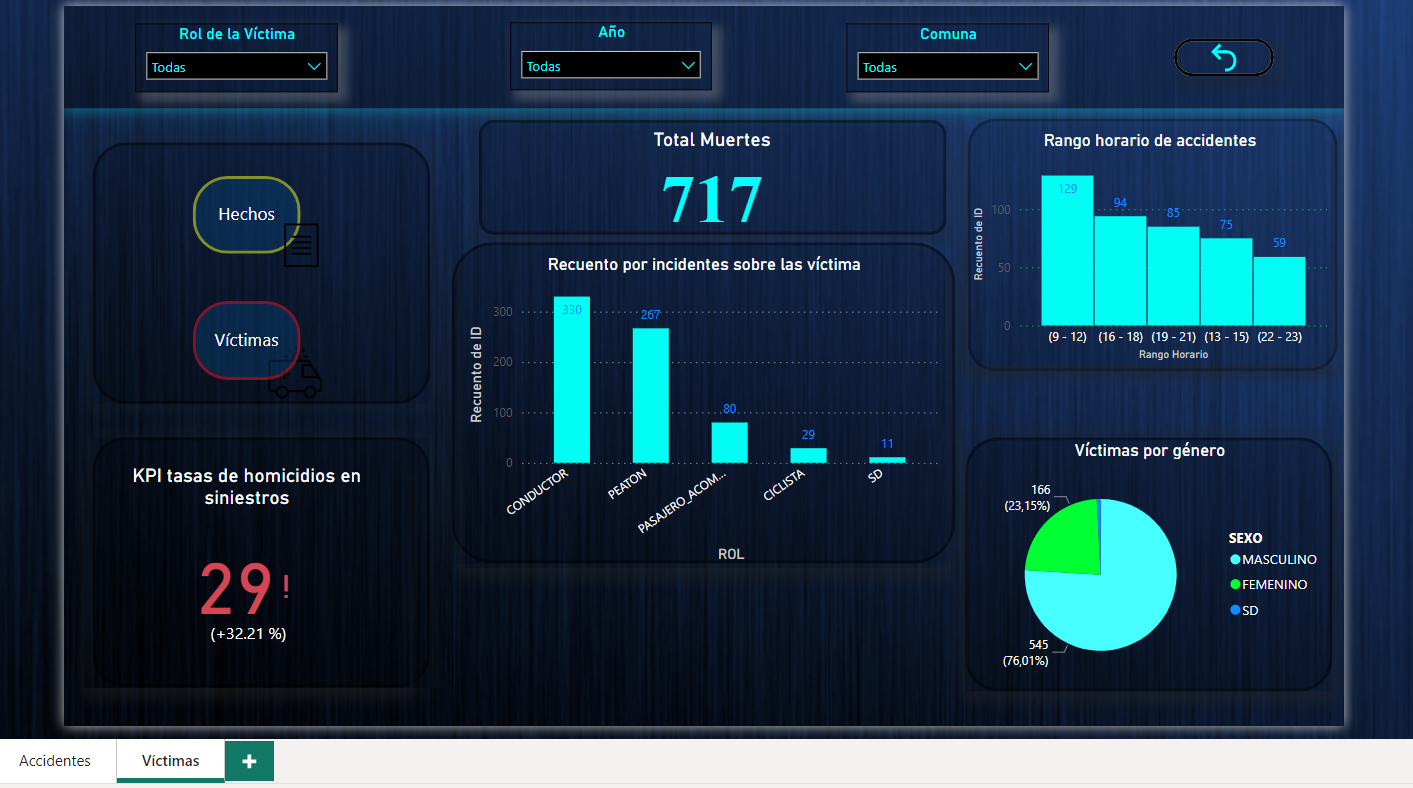

What the dashboard file says about the page in this screenshot:
{"tool":"powerbi","page":{"name":"Víctimas","canvas":[1280,720],"ordinal":1},"visuals":[{"type":"shape","box":[415,113.8,467.5,115],"z":0},{"type":"shape","box":[901.4,431.4,367.1,254.3],"z":2000},{"type":"shape","title":"Mapeo de accidentalidad","box":[904.3,112.9,370,252.9],"z":3000},{"type":"shape","box":[387.5,236.2,503.8,321.2],"z":4000},{"type":"columnChart","title":"Recuento por incidentes sobre las víctima","fields":{"Y":["CountNonNull(VICTIMAS.ID)"],"Category":["VICTIMAS.ROL"]},"box":[398.6,247.1,482.9,314.3],"z":5000},{"type":"pieChart","title":"Víctimas por género","fields":{"Category":["VICTIMAS.SEXO"],"Y":["CountNonNull(VICTIMAS.ID)"]},"box":[904.3,434.3,364.3,251.4],"z":6000},{"type":"shape","box":[0,0,1280.2,102.5],"z":7000},{"type":"slicer","title":"Comuna","fields":{"Values":["HECHOS.COMUNA"]},"box":[782.4,17.6,202.7,68.9],"z":8000},{"type":"card","title":"Total Muertes","fields":{"Values":["Sum(HECHOS.N_VICTIMAS)"]},"box":[433.8,122.5,428.8,106.2],"z":9000},{"type":"slicer","title":"Año","fields":{"Values":["HECHOS.FECHA.Variación.Jerarquía de fechas.Año"]},"box":[446.2,16.7,201.6,68.1],"z":10000},{"type":"slicer","title":"Rol de la Víctima","fields":{"Values":["VICTIMAS.ROL"]},"box":[71.2,17.5,202.5,68.8],"z":11000},{"type":"actionButton","box":[1109.5,32.4,100,37.8],"z":12000},{"type":"columnChart","title":"Rango horario de accidentes","fields":{"Category":["HECHOS.Rango Horario"],"Y":["CountNonNull(VICTIMAS.ID)"]},"box":[904.3,124.3,364.3,235.7],"z":13000},{"type":"shape","box":[28.9,136.3,337.7,261.7],"z":14000},{"type":"image","box":[196.7,334.4,68.9,63.3],"z":15000},{"type":"actionButton","box":[128.9,294.4,107.8,78.9],"z":16000},{"type":"actionButton","box":[128.9,170,107.8,77.8],"z":17000},{"type":"image","box":[208.9,210,56.7,58.9],"z":18000},{"type":"shape","box":[28.6,431.4,337.1,250],"z":19000},{"type":"kpi","title":"KPI tasas de homicidios en siniestros","fields":{"TrendLine":["VICTIMAS.FECHA"],"Goal":["VICTIMAS.motos_victims_currently"],"Indicator":["VICTIMAS.motos_victims_lasty"]},"box":[20,458.6,325.7,222.9],"z":19002}]}

Visuals, with their boxes on the page's 1280x720 design canvas (x1, y1, x2, y2). These are canvas units, not pixel positions in the 1413x788 screenshot, which may show the page scaled, cropped or inside an application window:
shape: (x1=415, y1=114, x2=882, y2=229)
shape: (x1=901, y1=431, x2=1268, y2=686)
"Mapeo de accidentalidad" shape: (x1=904, y1=113, x2=1274, y2=366)
shape: (x1=388, y1=236, x2=891, y2=557)
"Recuento por incidentes sobre las víctima" columnChart: (x1=399, y1=247, x2=882, y2=561)
"Víctimas por género" pieChart: (x1=904, y1=434, x2=1269, y2=686)
shape: (x1=0, y1=0, x2=1280, y2=102)
"Comuna" slicer: (x1=782, y1=18, x2=985, y2=86)
"Total Muertes" card: (x1=434, y1=122, x2=863, y2=229)
"Año" slicer: (x1=446, y1=17, x2=648, y2=85)
"Rol de la Víctima" slicer: (x1=71, y1=18, x2=274, y2=86)
actionButton: (x1=1110, y1=32, x2=1210, y2=70)
"Rango horario de accidentes" columnChart: (x1=904, y1=124, x2=1269, y2=360)
shape: (x1=29, y1=136, x2=367, y2=398)
image: (x1=197, y1=334, x2=266, y2=398)
actionButton: (x1=129, y1=294, x2=237, y2=373)
actionButton: (x1=129, y1=170, x2=237, y2=248)
image: (x1=209, y1=210, x2=266, y2=269)
shape: (x1=29, y1=431, x2=366, y2=681)
"KPI tasas de homicidios en siniestros" kpi: (x1=20, y1=459, x2=346, y2=682)
